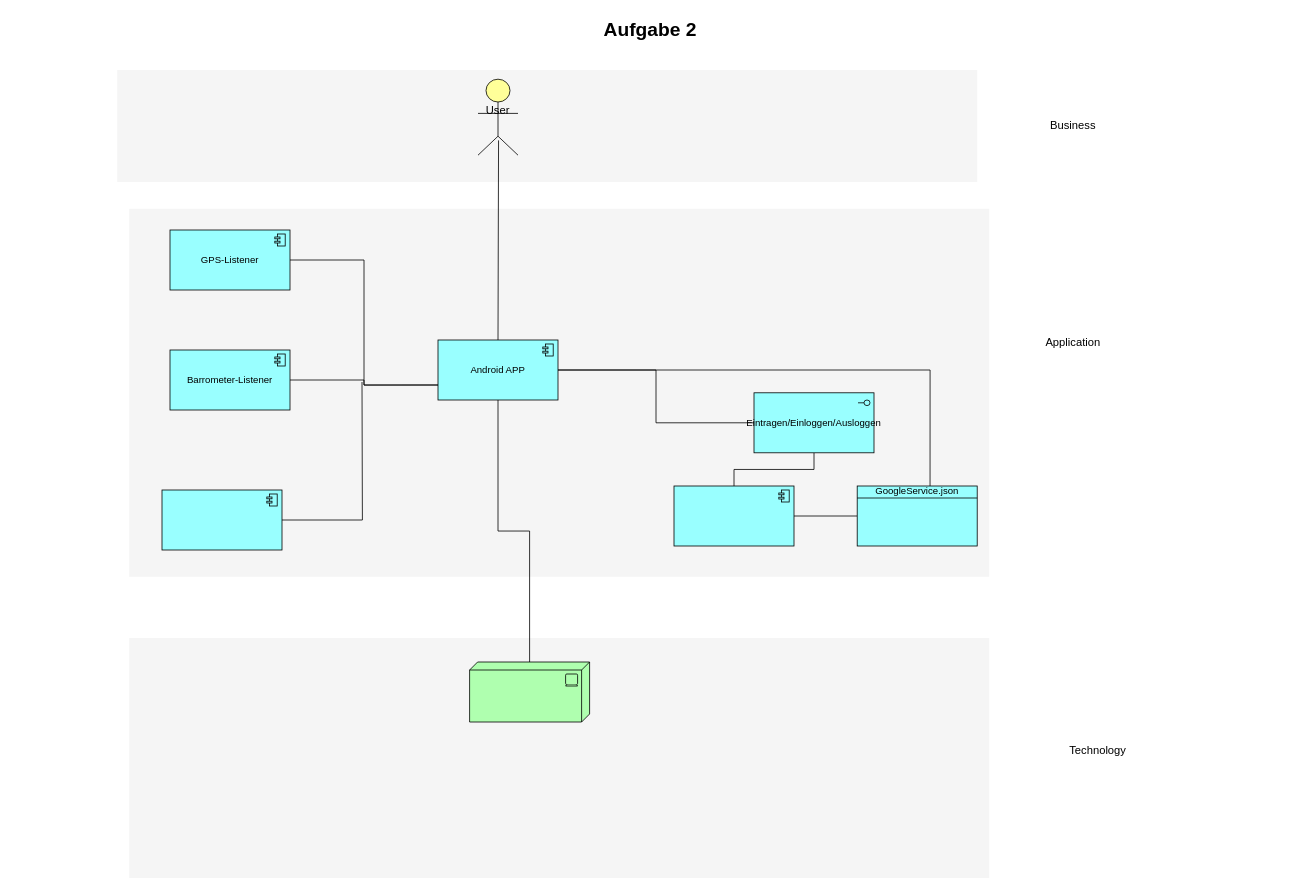
Image size: 1299x891. Some labels were removed from this diagram. Here are the shapes that lost their labels. From the top down, the box of each, then its label:
(161, 489, 282, 550): Accelorometer-Listener
(673, 485, 794, 546): Google-Firebase
(469, 661, 590, 722): Android-Phone
